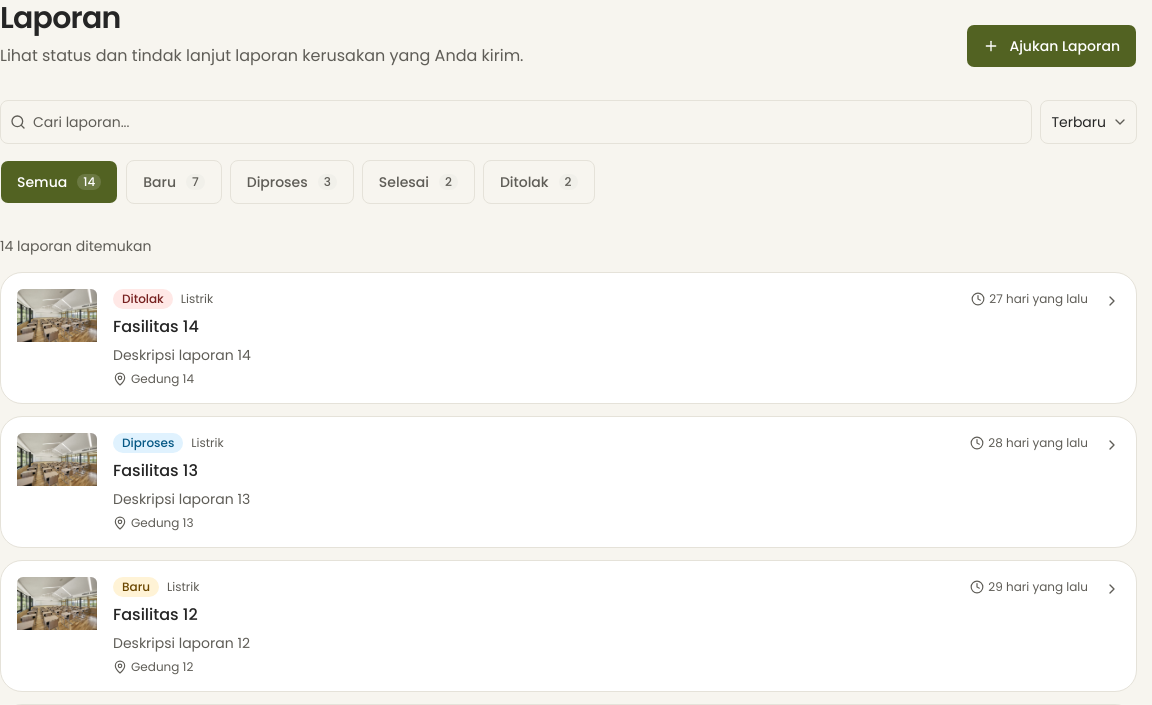
Test: ReportsView controls › mencari laporan dan mereset kata kunci serta filter ketika tidak ada hasil
Click the button with aria-label "Baru, 7 laporan" at point(174, 182), box [126,160,222,204]
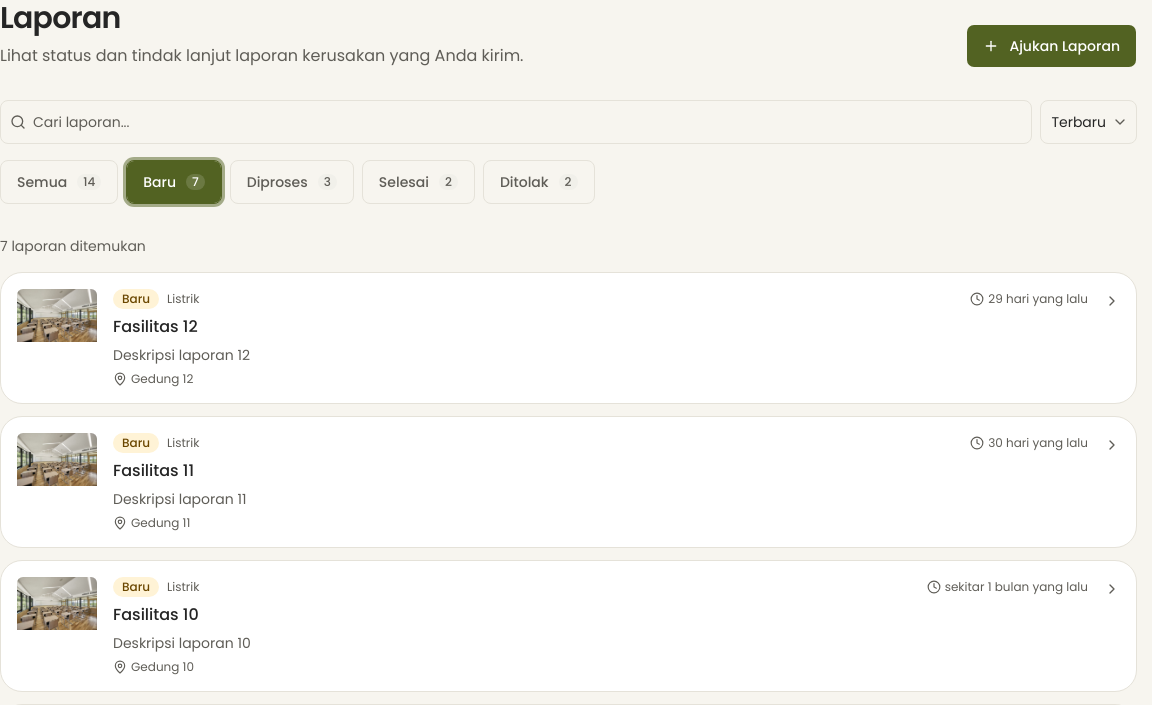
Click the dropdown named "Urutkan laporan" at point(1089, 122), box [1040,100,1137,144]
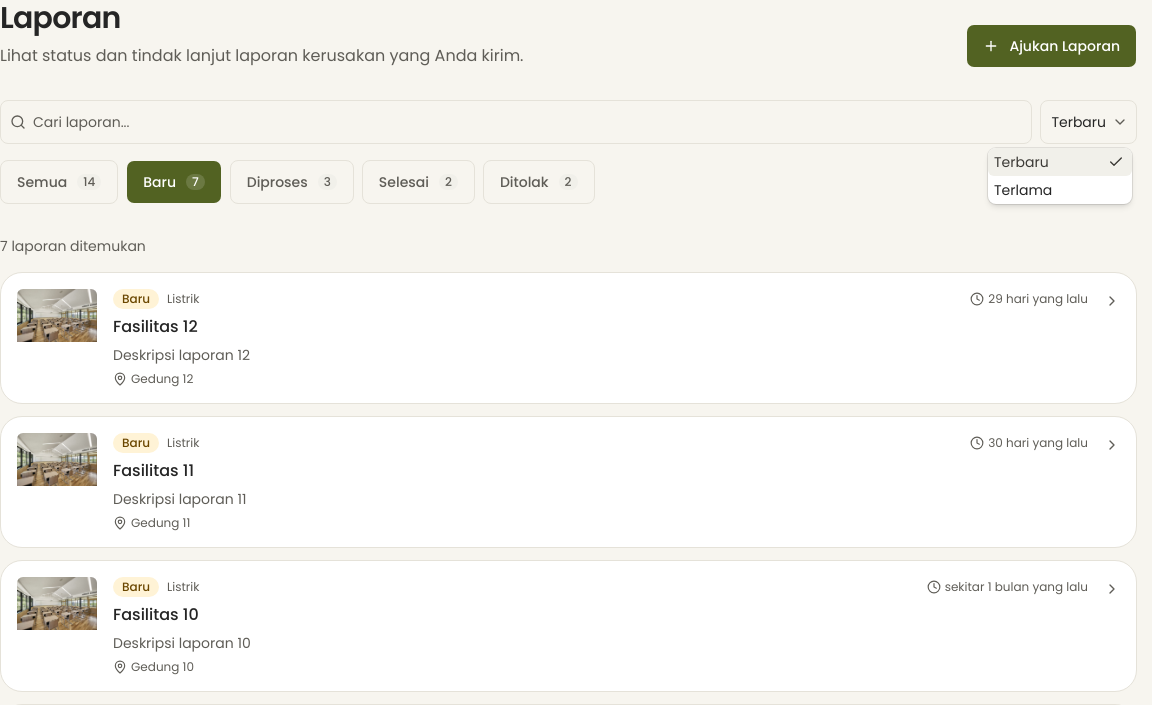
Click the option "Terlama" at point(1023, 190), box [994,180,1052,200]
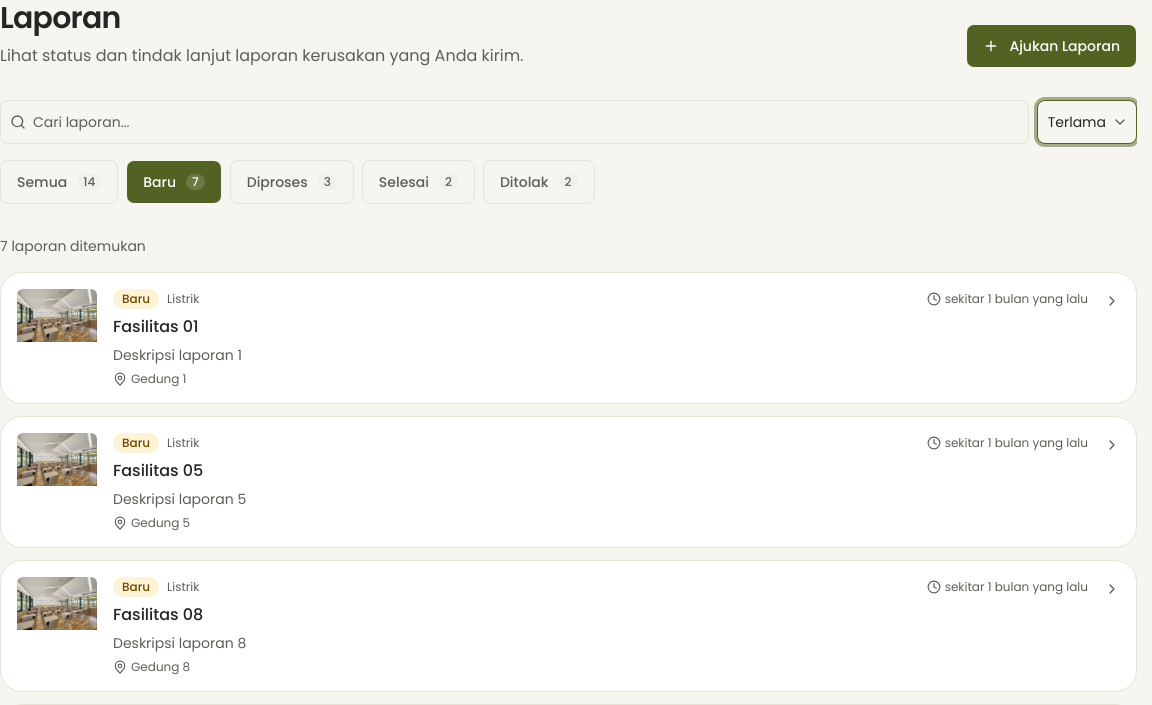
Expected: the dropdown named "Urutkan laporan" shows "Terlama", [1037,100,1137,144]
Type "Fasilitas 05" into the field labelled "Cari laporan" at point(514, 122), box [0,100,1029,144]
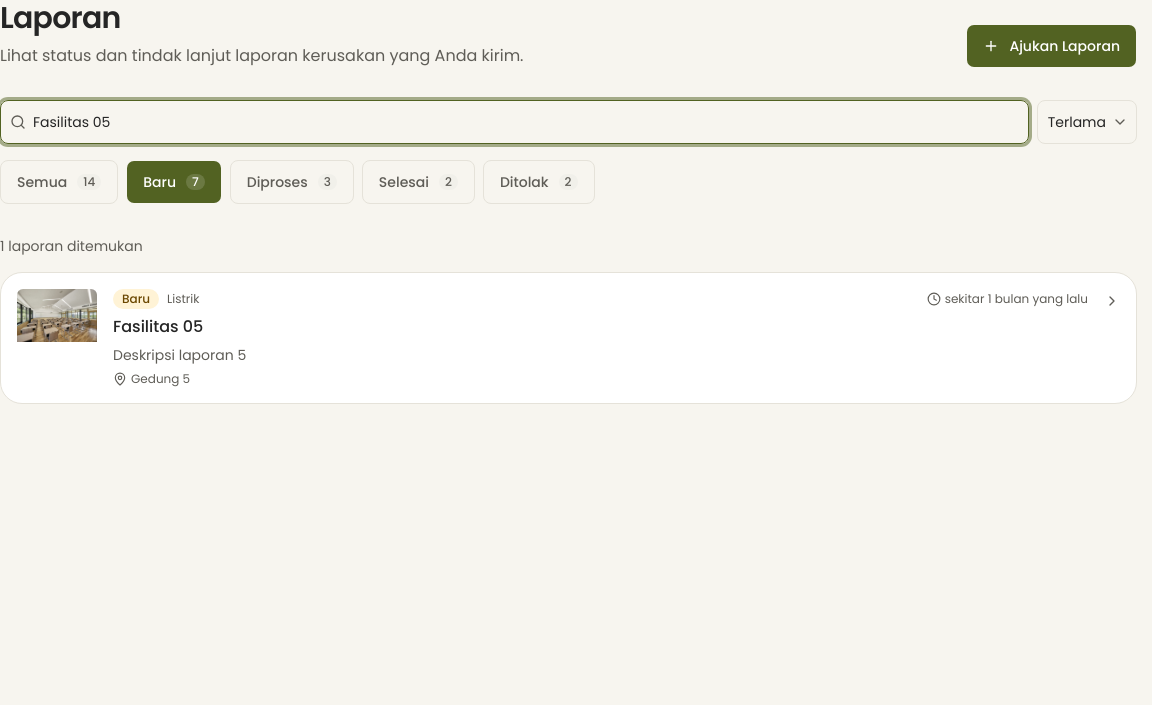
Expected: the button "Fasilitas 05" is shown, [0,272,1137,404]
Expected: the text "1 laporan ditemukan" is shown, [0,236,143,256]
Expected: the button "Fasilitas 08" is gone
Replace the text in the field named "Cari laporan" with "Tidak ada hasil" at point(514, 122), box [0,100,1029,144]
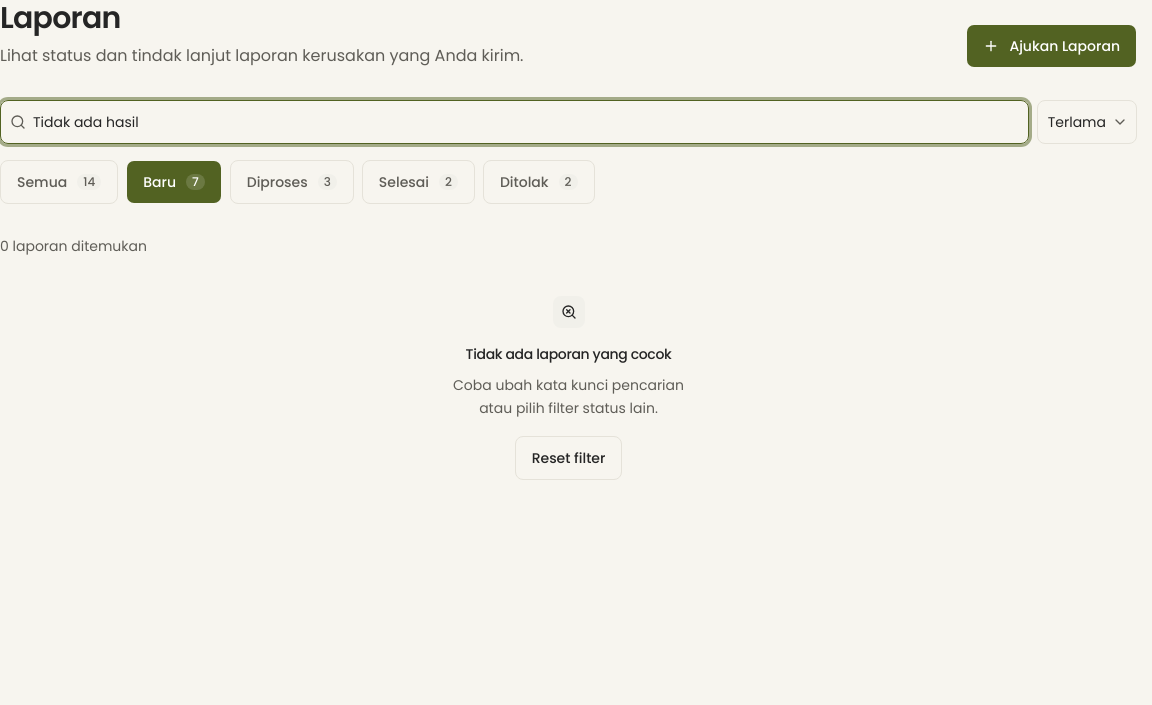
Expected: the text "Tidak ada laporan yang cocok" is shown, [466,344,671,364]
Click the button "Reset filter" at point(568, 458), box [515,436,622,480]
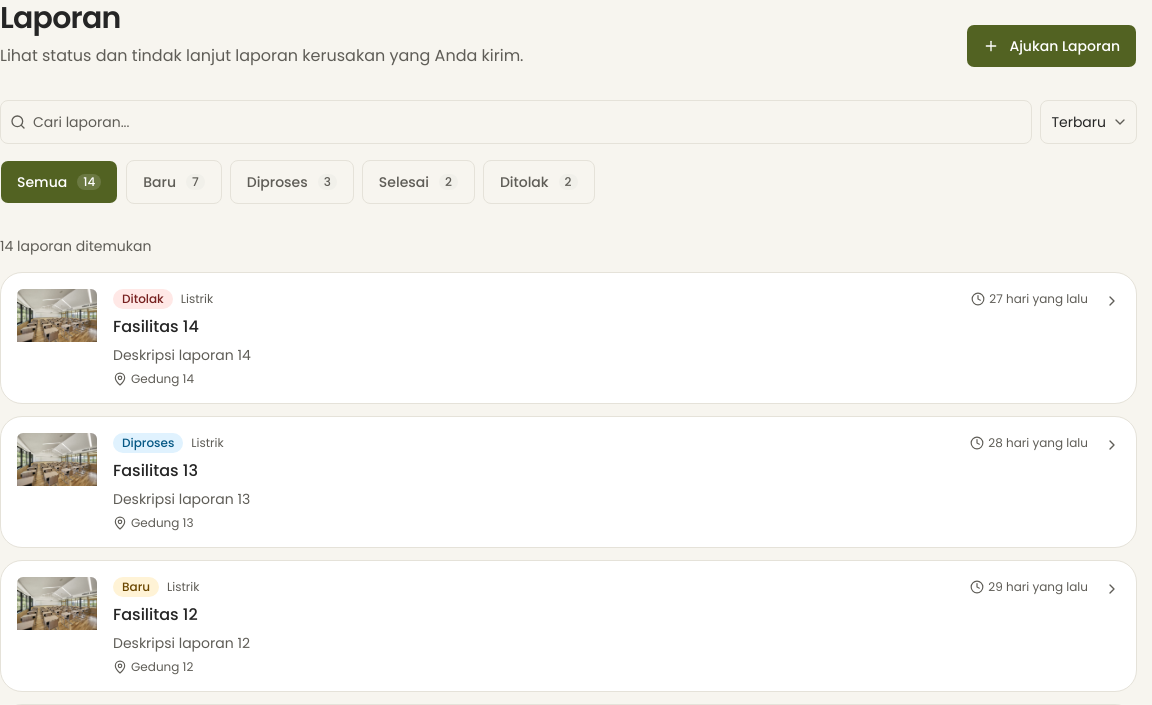
Expected: the dropdown named "Urutkan laporan" shows "Terbaru", [1040,100,1137,144]
Expected: the button "Fasilitas 14" is shown, [0,272,1137,404]
